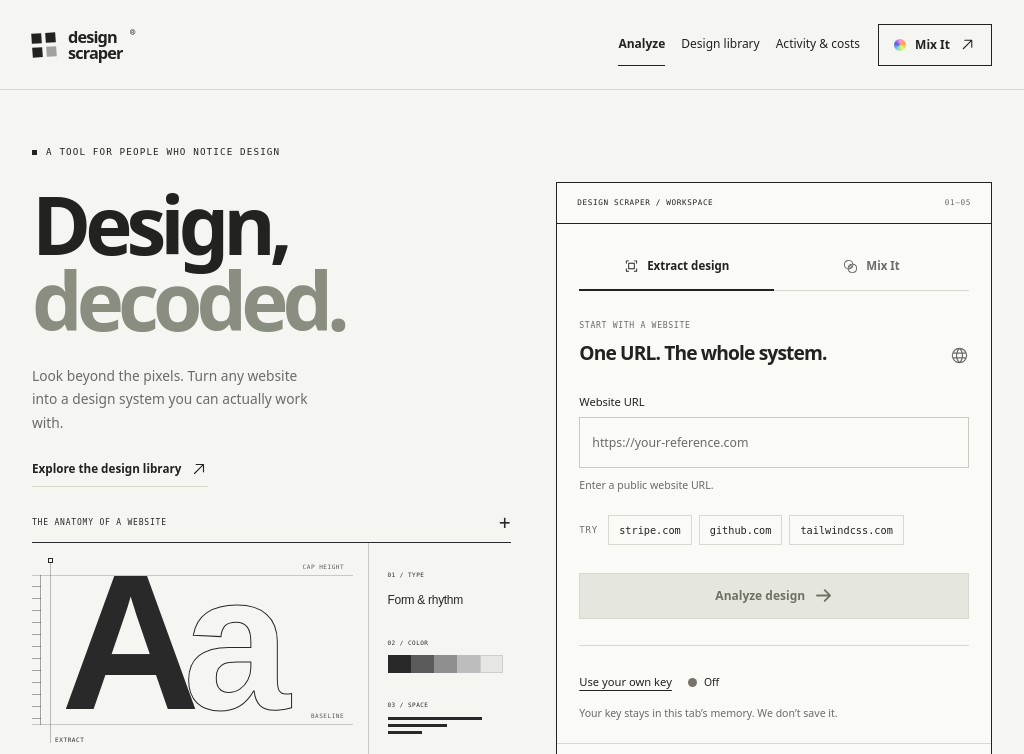
Test case: explains when the shared allowance is exhausted or unreachable, and never blocks typing
Focus the field labelled "Website URL" at (774, 443), box [579,417,969,468]
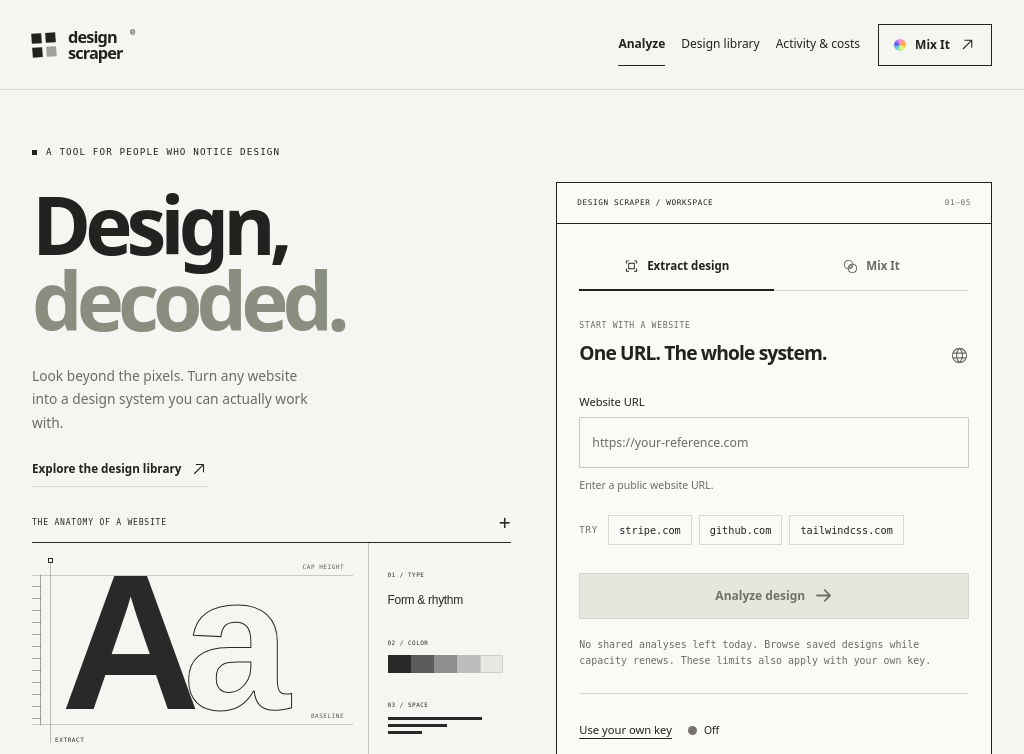
Check: the text "No shared analyses left today" is shown, box [579,639,931,666]
Type "https://example.com/" into the field labelled "Website URL" at (774, 443), box [579,417,969,468]
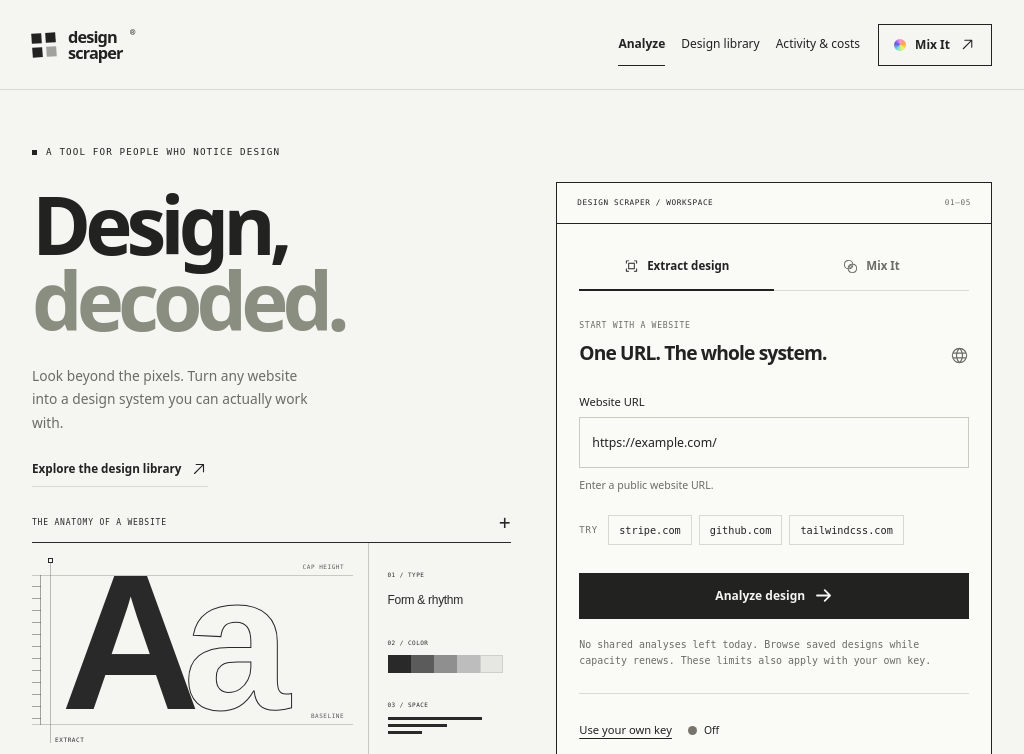
Check: the button "Analyze design" is enabled, box [579,573,969,619]
